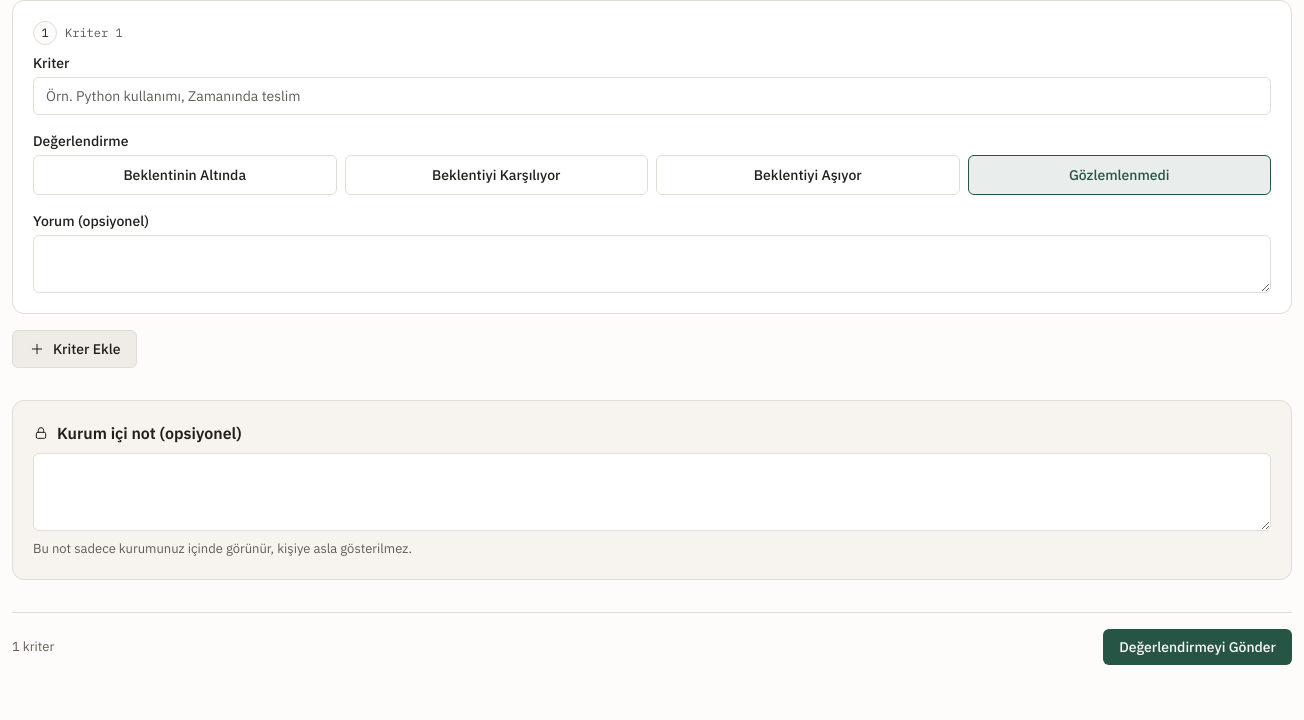
Test: EvaluationForm › kriter boş bırakılırsa gönderilmez, doğrulama hatası gösterilir
Step 1. Click the button "Değerlendirmeyi Gönder" → x=1198, y=646, box 1103,628 -> 1292,664
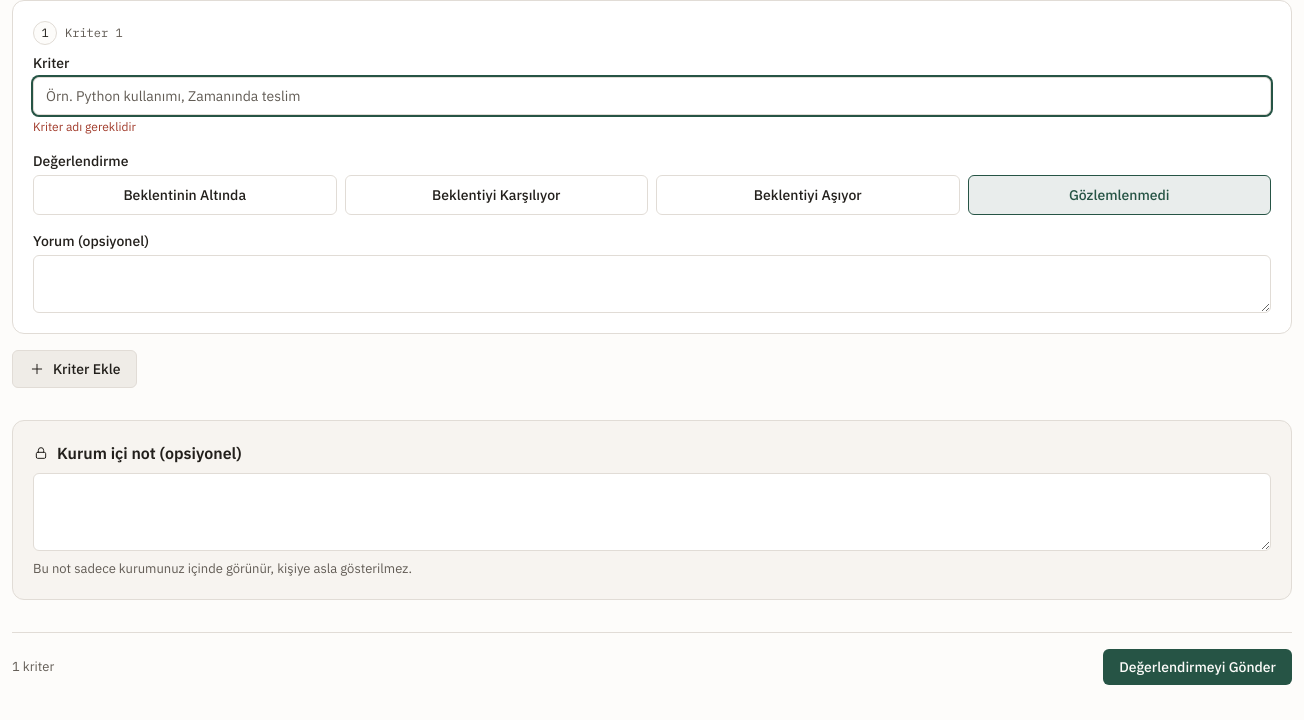
Now the text "Kriter adı gereklidir" is shown, box 33,119 -> 136,134
